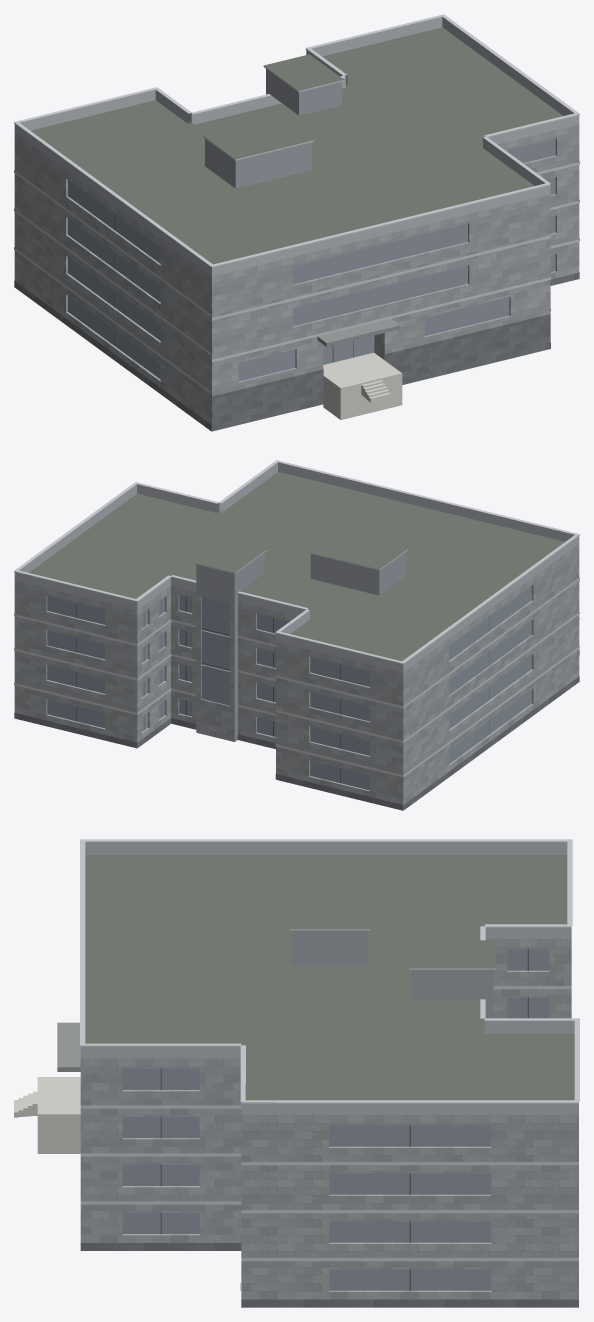
3 renders of one model, top to bottom at view 1: azimuth 30°, elevation 25°; view 2: azimuth 150°, elevation 25°; view 3: azimuth 270°, elevation 25°, orthographic. The views are drawn at different scales.
Visible parts, largest first — view 1: b131__roof, b131__wall, b131__glass, b131__parapet, b131__base, b131__trim, b131__wall2, b131__entranceStair, b131__canopy; view 2: b131__wall, b131__roof, b131__glass, b131__parapet, b131__trim, b131__wall2, b131__base, b131__frame; view 3: b131__roof, b131__wall, b131__glass, b131__parapet, b131__trim, b131__wall2, b131__base, b131__entranceStair, b131__canopy.
Part boxes in pixels (<box>): b131__roof: <box>31,27,562,431</box>; b131__wall: <box>14,124,579,431</box>; b131__glass: <box>68,138,555,381</box>; b131__parapet: <box>14,16,579,276</box>; b131__base: <box>14,272,579,431</box>; b131__trim: <box>14,14,579,393</box>; b131__wall2: <box>205,69,341,188</box>; b131__entranceStair: <box>323,353,402,419</box>; b131__canopy: <box>317,318,400,346</box>; b131__wall: <box>14,544,579,810</box>; b131__roof: <box>29,471,564,661</box>; b131__glass: <box>47,586,531,790</box>; b131__parapet: <box>14,462,579,672</box>; b131__trim: <box>14,460,579,777</box>; b131__wall2: <box>196,551,406,741</box>; b131__base: <box>14,650,579,810</box>; b131__frame: <box>76,596,489,783</box>; b131__roof: <box>85,855,574,1100</box>; b131__wall: <box>80,939,578,1299</box>; b131__glass: <box>122,949,549,1290</box>; b131__parapet: <box>80,841,578,1115</box>; b131__trim: <box>80,839,579,1261</box>; b131__wall2: <box>291,930,493,1018</box>; b131__base: <box>80,1243,578,1307</box>; b131__entranceStair: <box>14,1077,80,1153</box>; b131__canopy: <box>57,1022,80,1071</box>.
Size of the model in its own units: 42.33 by 18.09 by 38.48.
11 materials, 2 textured.
